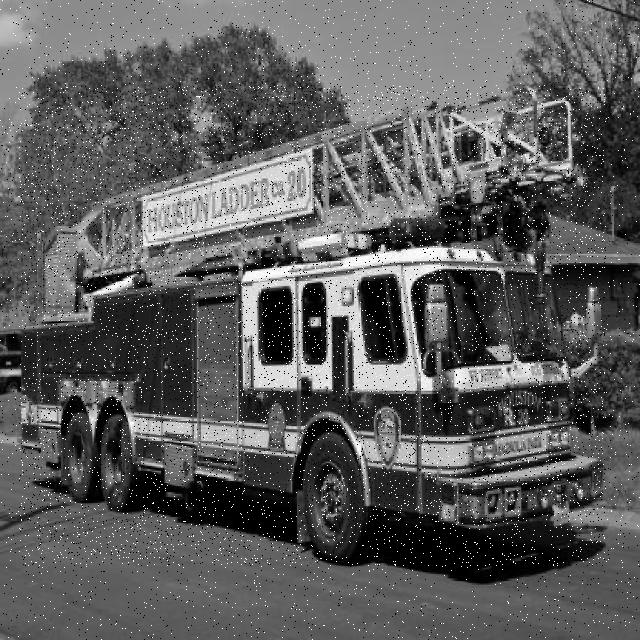Fire Truck: (19, 86, 605, 566)
